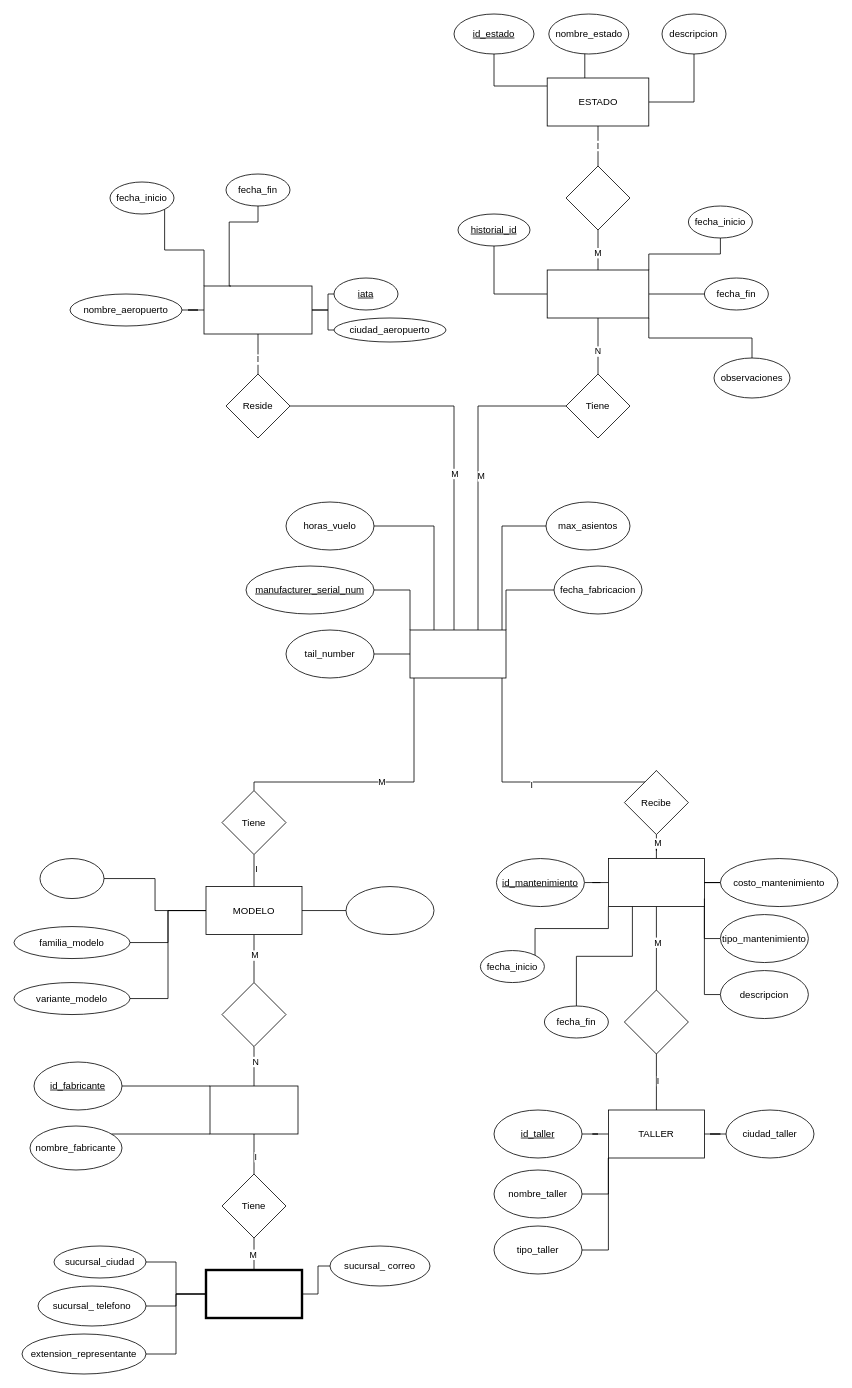
Some shapes in this 852 by 1388 pixel diagram are drawn without their labels. The shapes that lost their labels are listed below. From the top down, each one's centre as x and y in pixels, then its label:
At (x=597, y=197): "Guarda".
At (x=257, y=309): "AEROPUERTO_BASE".
At (x=597, y=293): "HISTORIAL_ESTADO".
At (x=457, y=653): "AERONAVE".
At (x=71, y=878): "id_modelo".
At (x=656, y=882): "MANTENIMIENTO".
At (x=389, y=910): "clase_aeronave".
At (x=253, y=1014): "Produce".
At (x=656, y=1021): "Realiza".
At (x=253, y=1109): "FABRICANTE".
At (x=253, y=1293): "SUCURSAL".
